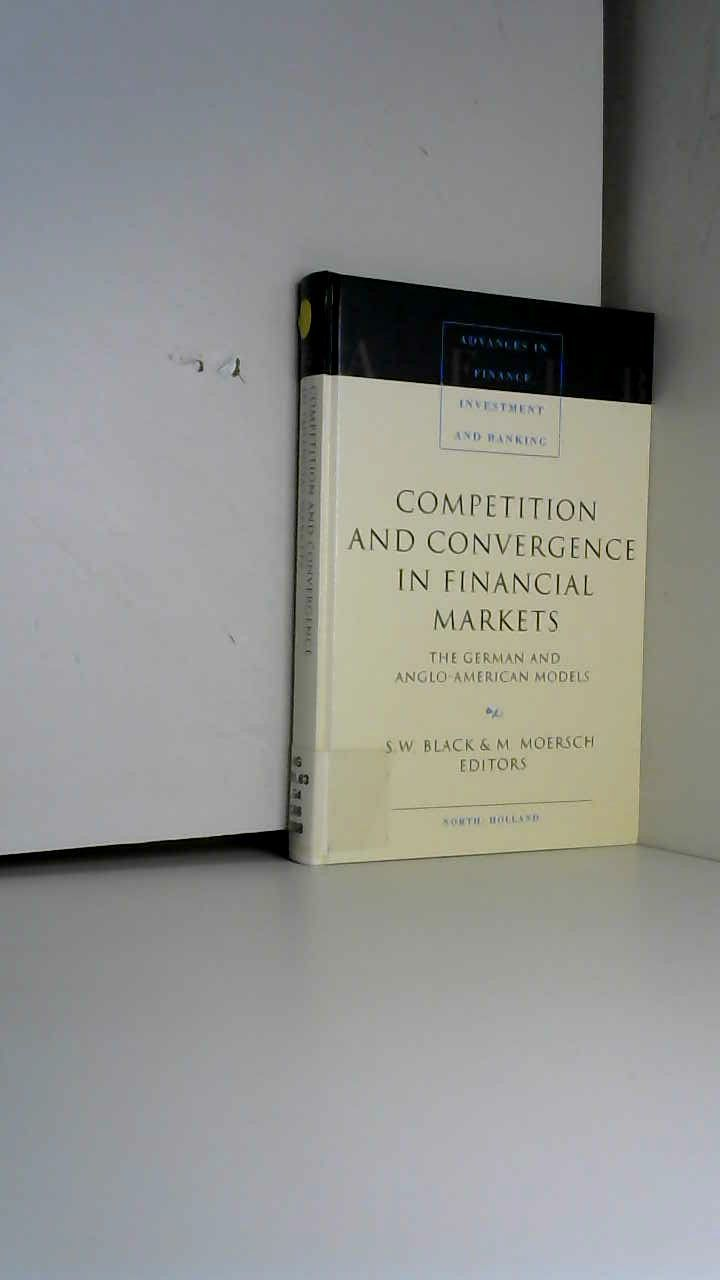book: (260, 240, 720, 893)
